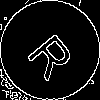R: (25, 25, 83, 82)
